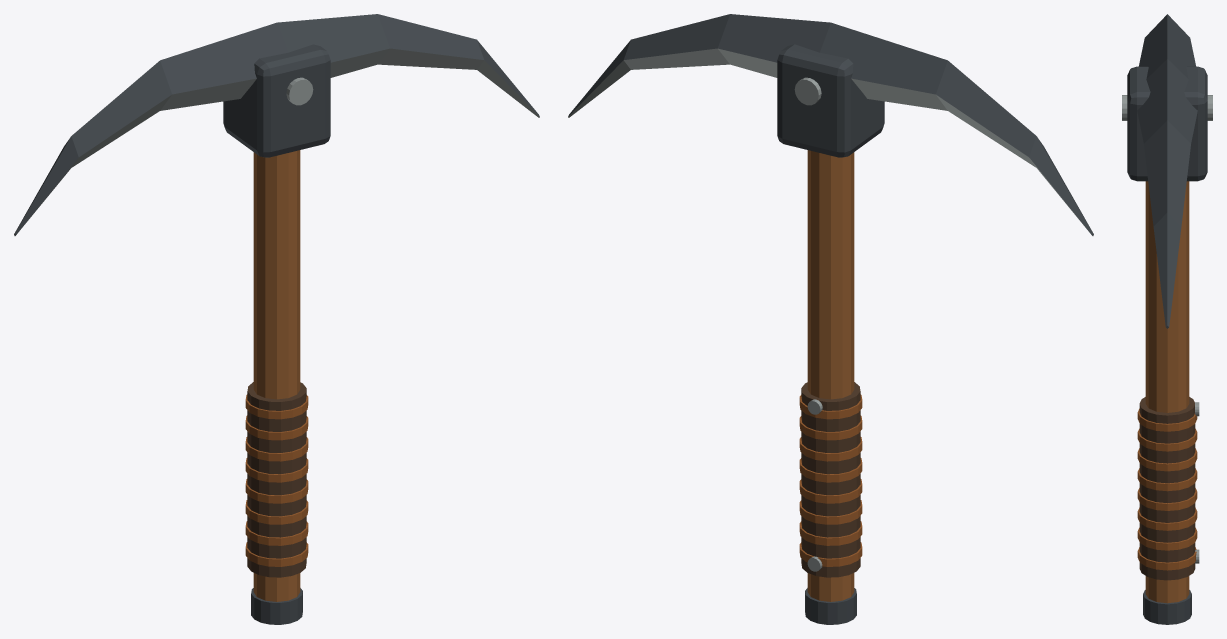
File: Pickaxe.fbx
The picture shows the model from 3 angles, left to right: view 1: azimuth 30°, elevation 25°; view 2: azimuth 150°, elevation 25°; view 3: azimuth 270°, elevation 25°; orthographic projection. The views are drawn at different scales.
Parts seen in each view (by area): view 1: Pickaxe_Mesh; view 2: Pickaxe_Mesh; view 3: Pickaxe_Mesh.
Part boxes in pixels (left/top/right/bottom): Pickaxe_Mesh: left=14, top=14, right=539, bottom=624; Pickaxe_Mesh: left=568, top=14, right=1093, bottom=624; Pickaxe_Mesh: left=1122, top=14, right=1212, bottom=624.
Size of the model in its own units: 0.65 by 0.701 by 0.104.
